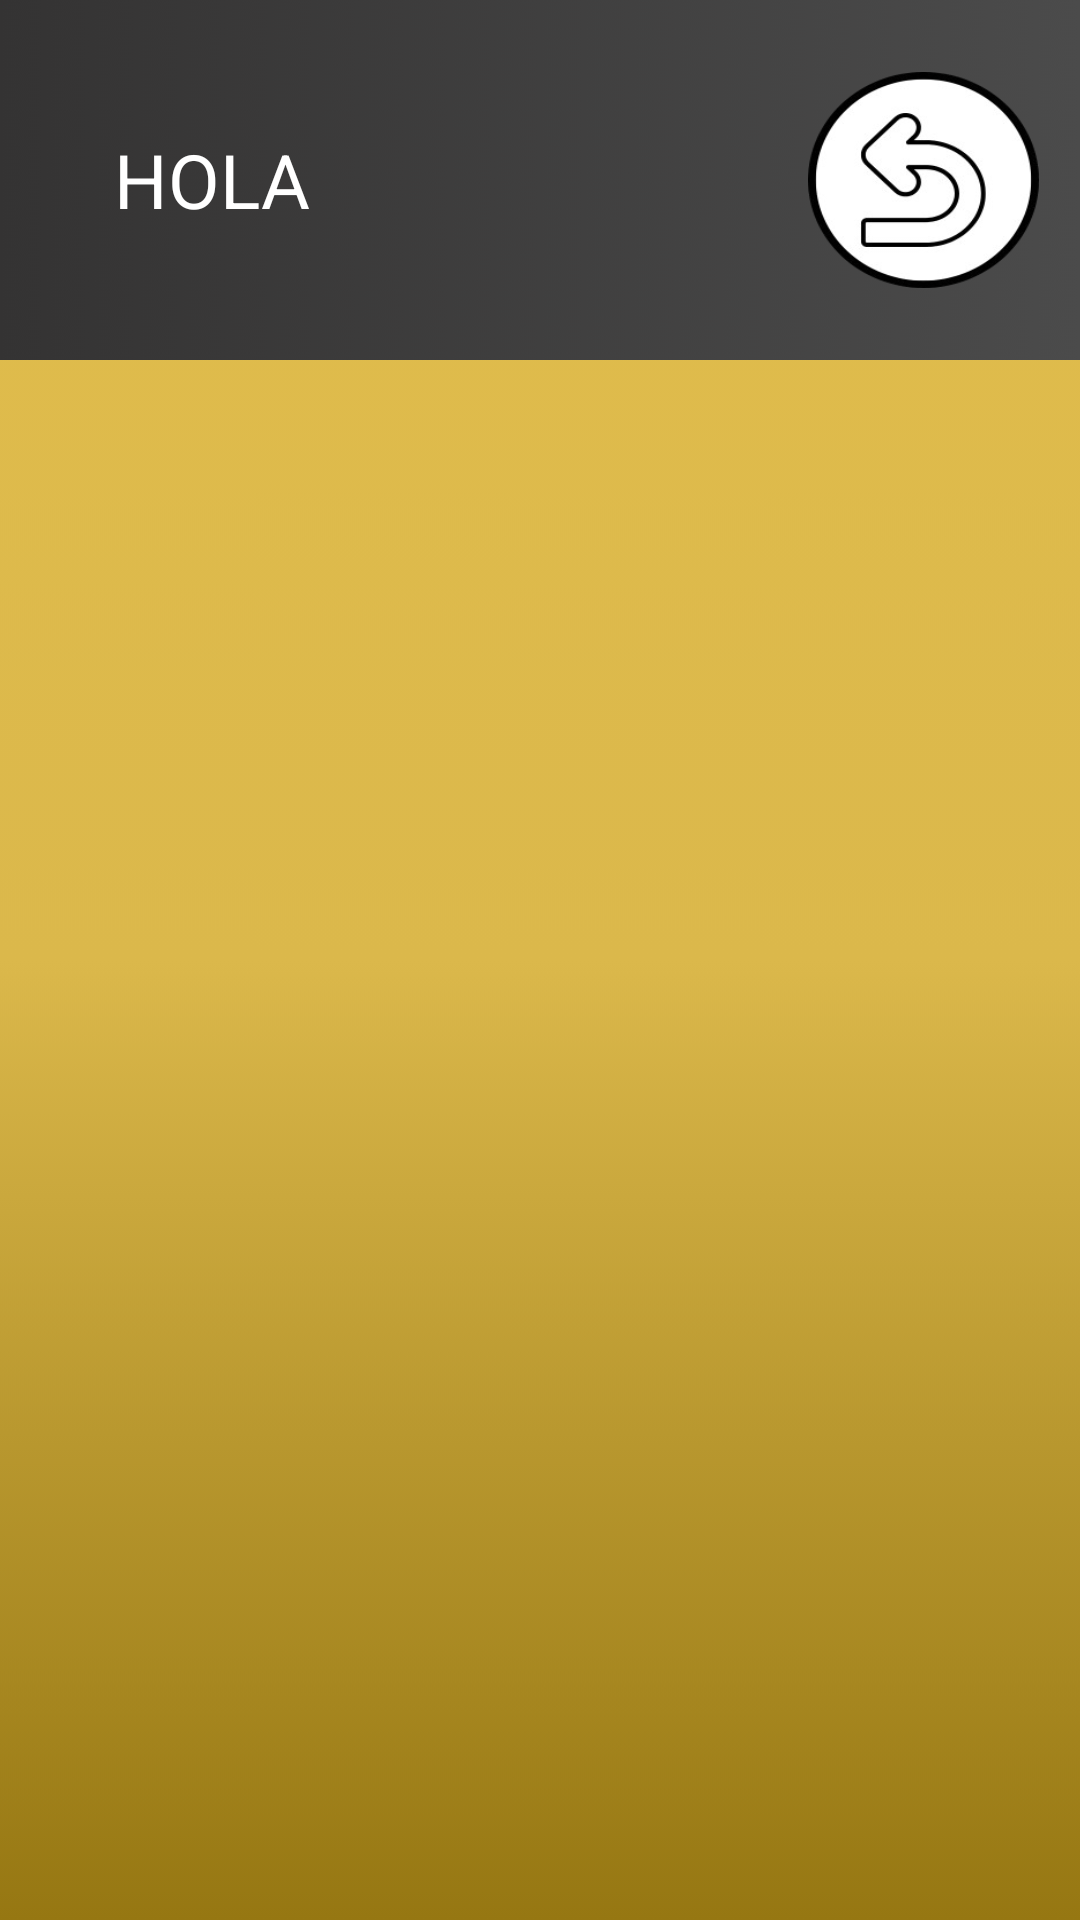

Named icons in this screenshot (1080px x 1920px) and their centers, (x,y):
returnimg: (923,180)
